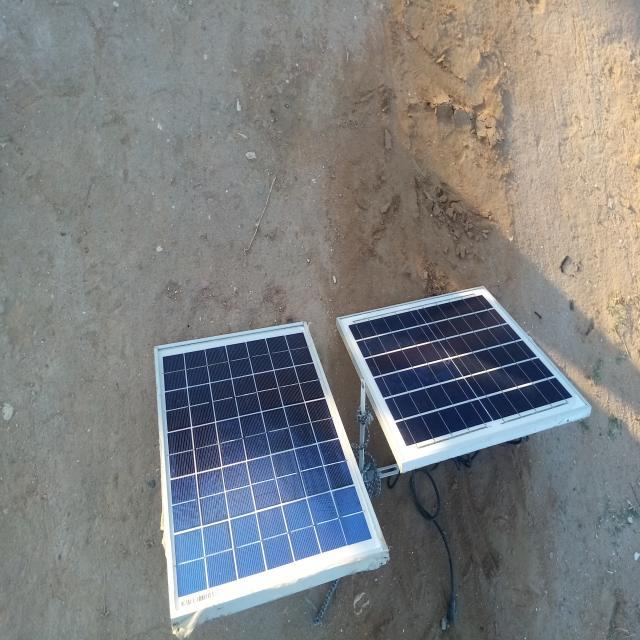no faulty: (154, 323, 387, 617), (339, 286, 591, 466)
